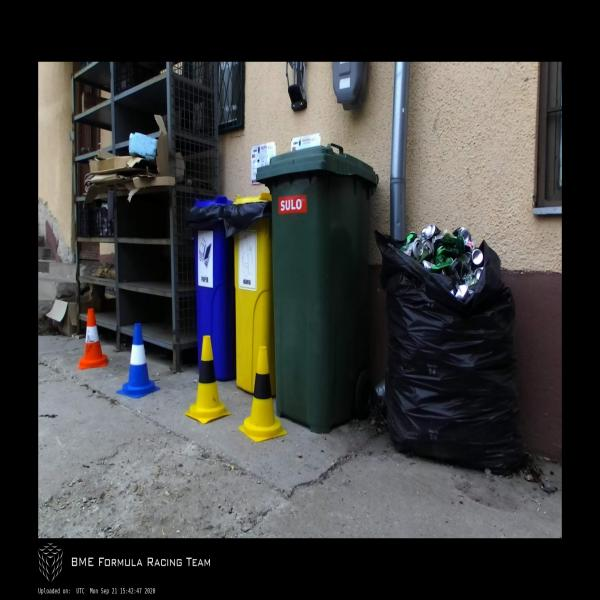blue_cone: (116, 324, 160, 398)
orange_cone: (78, 309, 109, 369)
yellow_cone: (238, 346, 288, 442), (184, 336, 231, 424)
